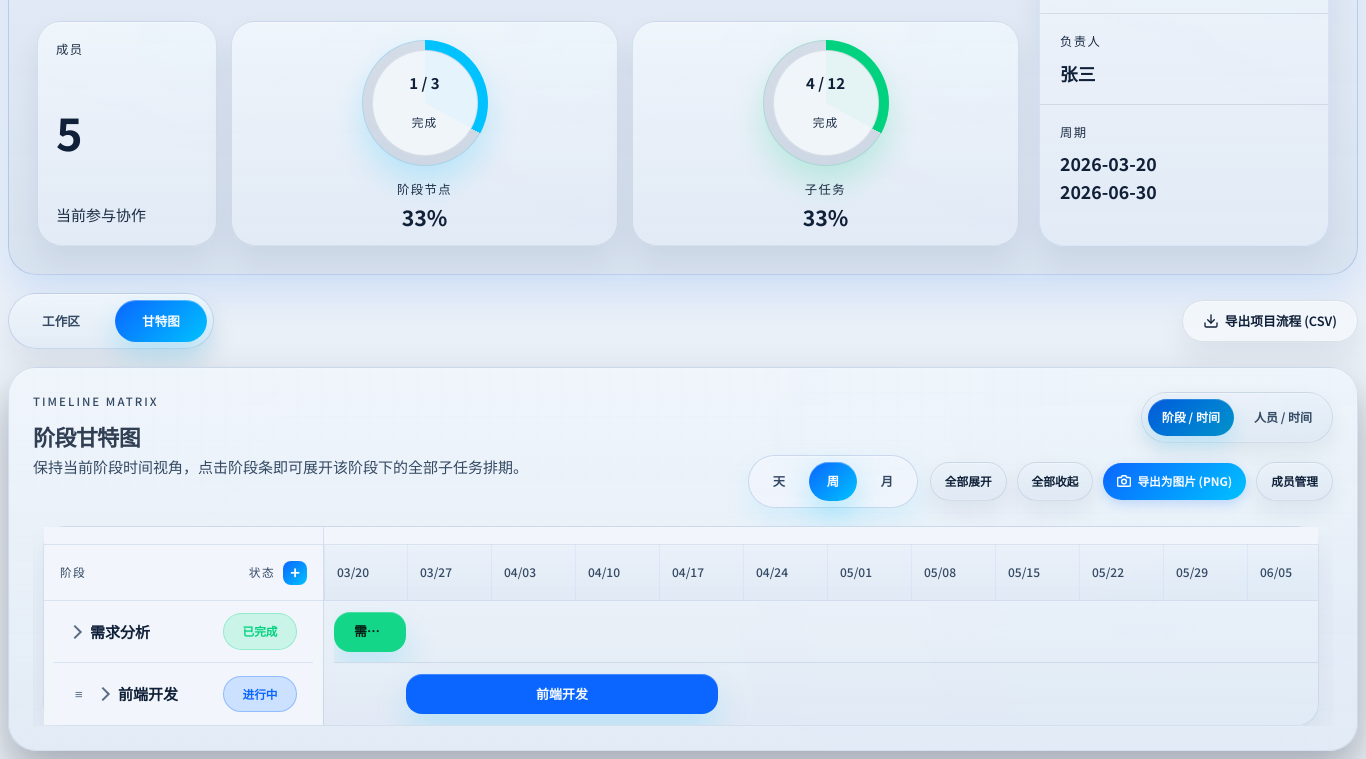
ProjectDetailView › expands node subtasks inline on demand from the gantt view instead of opening a detached overlay
(page scrolled)
expect the element with test id "project-gantt-view" is shown: met, box [8,367,1358,751]
Step 1. Click the button with test id "project-gantt-stage-bar-2002" → (562, 694), box [406,674,718,714]
(page scrolled)
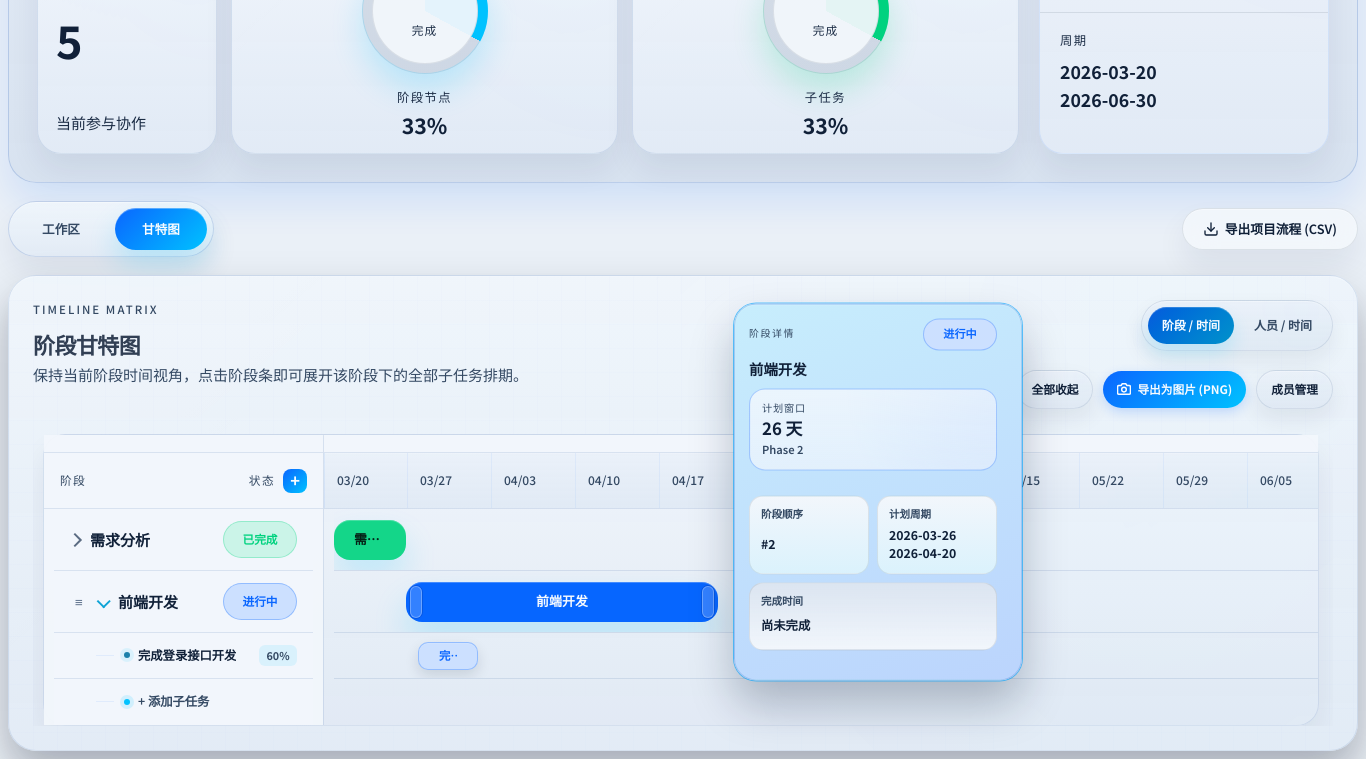
expect the button with test id "project-gantt-subtask-bar-3001" reads "完成登录接口开发": met, box [418,642,478,670]
